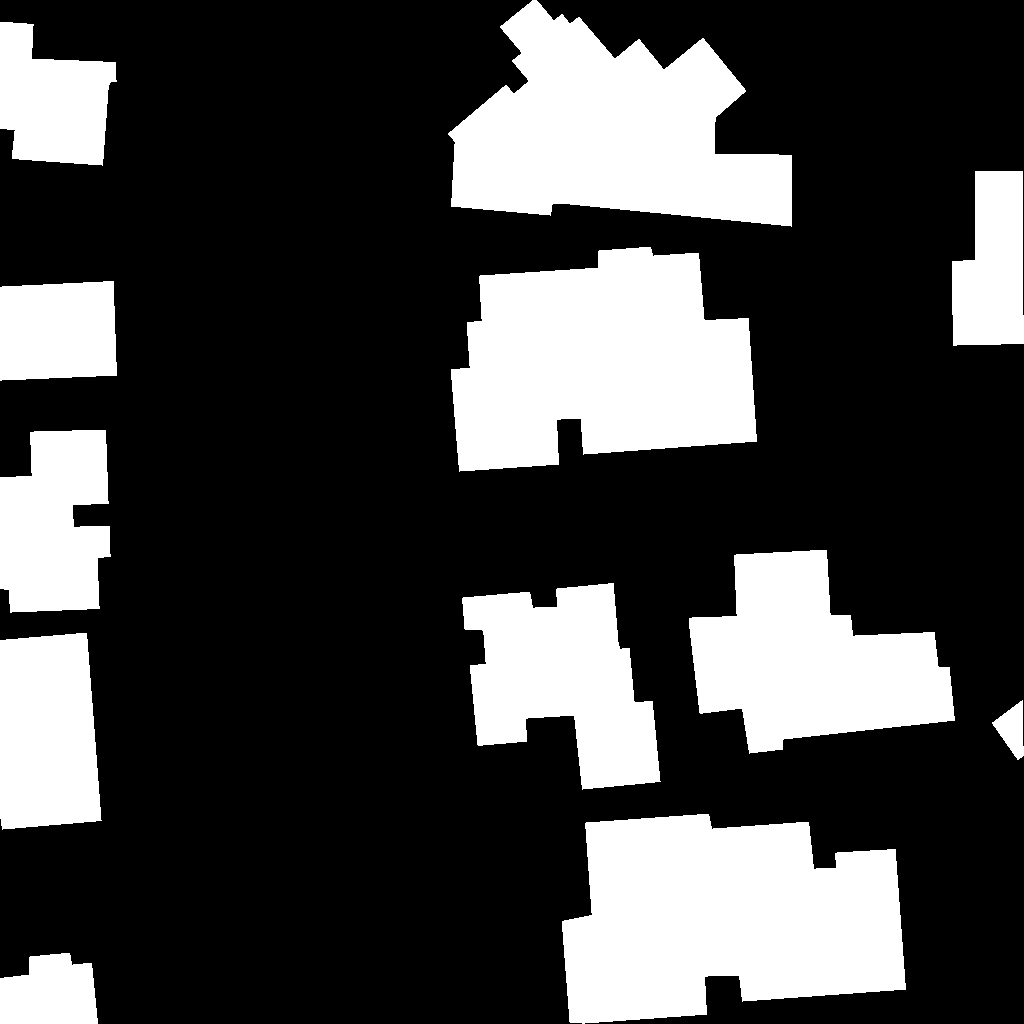building: (448, 0, 793, 227), (562, 814, 907, 1024), (451, 247, 758, 472), (689, 550, 956, 754), (462, 583, 661, 790), (0, 430, 111, 613), (0, 633, 102, 830), (0, 22, 117, 166), (952, 171, 1024, 346), (0, 281, 118, 381), (0, 953, 99, 1024), (992, 700, 1024, 761)
